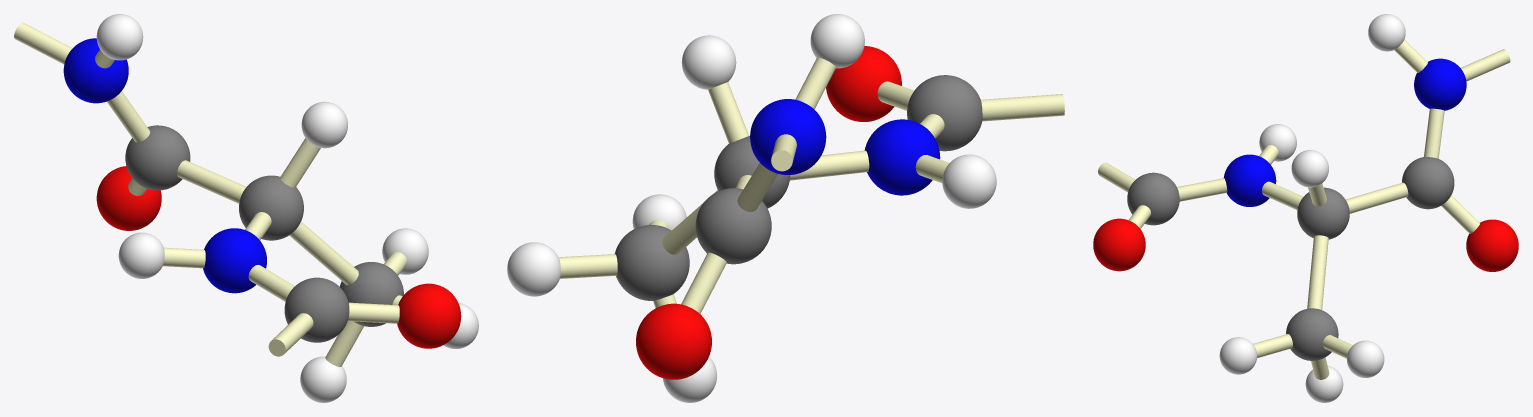
The model's file is conformation.gltf.
The picture shows the model from 3 angles, left to right: view 1: azimuth 30°, elevation 25°; view 2: azimuth 150°, elevation 25°; view 3: azimuth 270°, elevation 25°; orthographic projection. The views are drawn at different scales.
Visible parts, largest first — view 1: ?????????2, ?????????3, ?????????5, ?????????1, ?????????4, ?????????13, ?????????6, ?????????9, ?????????14, ?????????8, ?????????7, ?????????12 (+13 smaller); view 2: ?????????6, ?????????5, ?????????9, ?????????3, ?????????13, ?????????1, ?????????2, ?????????7, ?????????11, ?????????8, ?????????14, ?????????4 (+13 smaller); view 3: ?????????2, ?????????6, ?????????13, ?????????5, ?????????3, ?????????1, ?????????9, ?????????4, ?????????22, ?????????10, ?????????8, ?????????11 (+13 smaller).
Boxes of the visible parts, x1,y1,x2,y2 form: ?????????2: [397, 283, 461, 348]; ?????????3: [203, 228, 266, 293]; ?????????5: [125, 125, 190, 190]; ?????????1: [284, 277, 349, 342]; ?????????4: [239, 175, 303, 240]; ?????????13: [63, 38, 128, 103]; ?????????6: [96, 166, 161, 230]; ?????????9: [340, 262, 403, 326]; ?????????14: [96, 14, 143, 60]; ?????????8: [301, 101, 347, 148]; ?????????7: [118, 232, 164, 278]; ?????????12: [300, 356, 346, 402]; ?????????6: [636, 303, 711, 379]; ?????????5: [695, 188, 771, 264]; ?????????9: [614, 225, 689, 300]; ?????????3: [864, 119, 940, 195]; ?????????13: [750, 99, 826, 174]; ?????????1: [907, 75, 982, 151]; ?????????2: [826, 46, 901, 121]; ?????????7: [942, 154, 996, 208]; ?????????11: [507, 242, 560, 296]; ?????????8: [681, 35, 736, 89]; ?????????14: [810, 14, 864, 68]; ?????????4: [714, 136, 790, 208]; ?????????2: [1093, 218, 1145, 271]; ?????????6: [1466, 219, 1518, 271]; ?????????13: [1414, 58, 1466, 110]; ?????????5: [1402, 157, 1454, 209]; ?????????3: [1223, 154, 1276, 206]; ?????????1: [1127, 172, 1179, 225]; ?????????9: [1286, 308, 1338, 360]; ?????????4: [1297, 187, 1349, 239]; ?????????22: [1307, 235, 1328, 309]; ?????????10: [1219, 337, 1257, 374]; ?????????8: [1291, 150, 1328, 187]; ?????????11: [1347, 340, 1384, 377].
Bounding box in the file's own units: 44.42 × 47.02 × 56.62.
